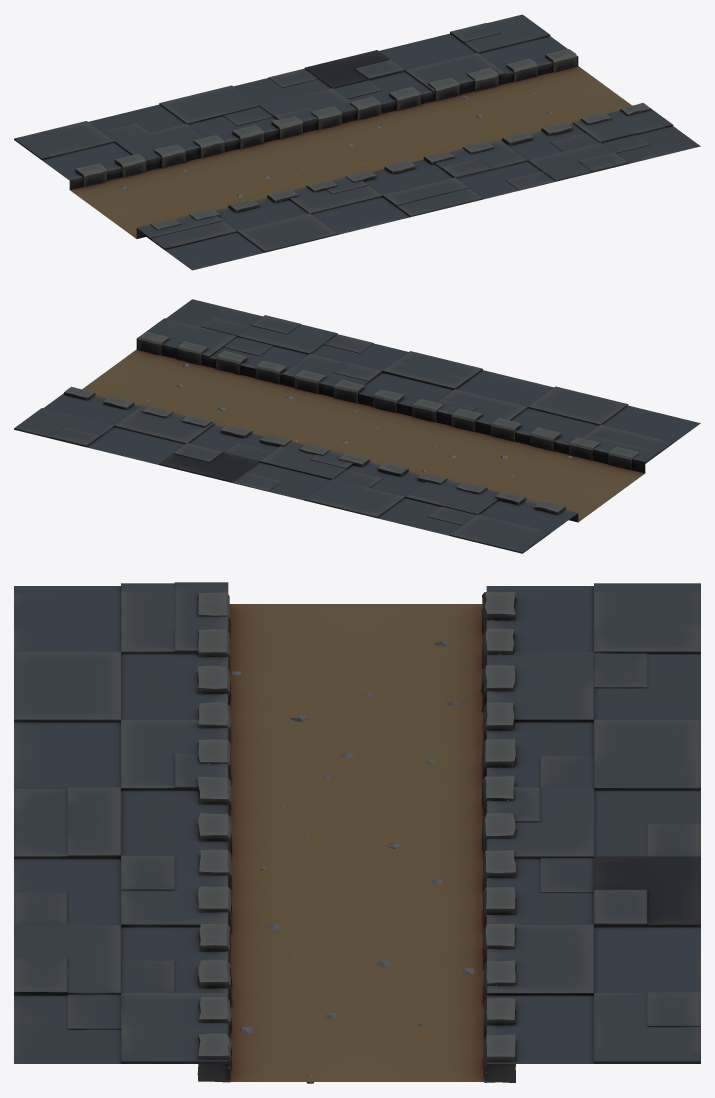
Rendered from yerT3.fbx.
The picture shows the model from 3 angles, top to bottom: view 1: azimuth 30°, elevation 25°; view 2: azimuth 150°, elevation 25°; view 3: azimuth 270°, elevation 25°; orthographic projection. The views are drawn at different scales.
Visible parts, largest first — view 1: Plane.002; view 2: Plane.002; view 3: Plane.002.
Part boxes in pixels (left/top/right/bottom): Plane.002: left=14, top=14, right=700, bottom=270; Plane.002: left=14, top=299, right=700, bottom=553; Plane.002: left=14, top=582, right=700, bottom=1083.
Size of the model in its own units: 2197 by 73.69 by 1335.
1 material, 1 textured.
